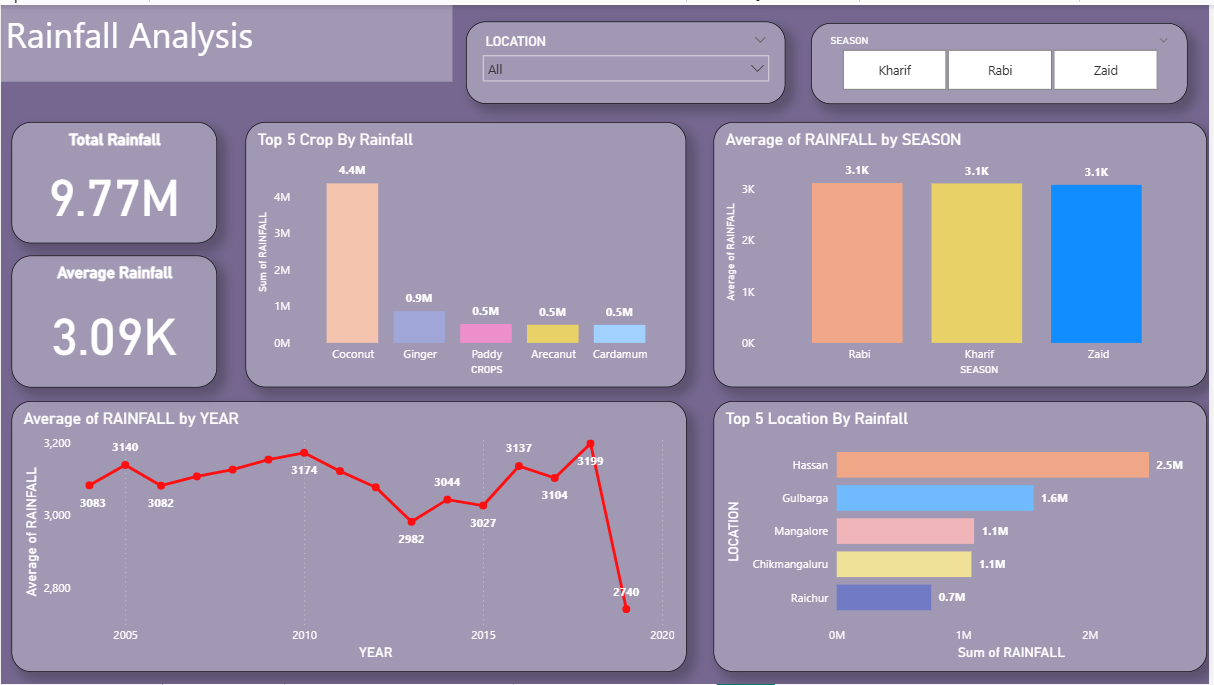

This screenshot's page, from the dashboard's own definition file:
{"tool":"powerbi","page":{"name":"Rainfall","canvas":[1280,720],"ordinal":0},"visuals":[{"type":"lineChart","fields":{"Y":["Avg(PBI_DATASET.RAINFALL)"],"Category":["PBI_DATASET.YEAR"]},"box":[11.3,419.5,716.2,287.2],"z":0},{"type":"textbox","box":[0,0,478.8,81.1],"z":1},{"type":"columnChart","fields":{"Y":["Avg(PBI_DATASET.RAINFALL)"],"Category":["PBI_DATASET.SEASON"]},"box":[755.9,124.7,523.5,281.6],"z":2},{"type":"barChart","title":"Top 5 Location By Rainfall","fields":{"Category":["PBI_DATASET.LOCATION"],"Y":["Sum(PBI_DATASET.RAINFALL)"]},"box":[755.9,419.5,523.5,287.2],"z":3},{"type":"columnChart","title":"Top 5 Crop By Rainfall","fields":{"Category":["PBI_DATASET.CROPS"],"Y":["Sum(PBI_DATASET.RAINFALL)"]},"box":[259.3,124.1,467.6,281.5],"z":4},{"type":"slicer","fields":{"Values":["PBI_DATASET.SEASON"]},"box":[858.9,19.1,399.2,85.9],"z":5},{"type":"slicer","fields":{"Values":["PBI_DATASET.LOCATION"]},"box":[493.1,17.5,338.8,87.5],"z":6},{"type":"card","title":"Total Rainfall","fields":{"Values":["Sum(PBI_DATASET.RAINFALL)"]},"box":[11.1,124.1,217.9,128.8],"z":7},{"type":"card","title":"Average Rainfall","fields":{"Values":["Avg(PBI_DATASET.RAINFALL)"]},"box":[11.1,265.6,217.9,140],"z":8}]}

Visuals, with their boxes in screenshot pixels (x1, y1, x2, y2), scaled from the page's 1280x720 canvas onto the 1214x685 screenshot:
lineChart - Avg(PBI_DATASET.RAINFALL) x PBI_DATASET.YEAR: box(11, 399, 690, 672)
textbox: box(0, 0, 454, 77)
columnChart - Avg(PBI_DATASET.RAINFALL) x PBI_DATASET.SEASON: box(717, 119, 1213, 387)
"Top 5 Location By Rainfall" barChart: box(717, 399, 1213, 672)
"Top 5 Crop By Rainfall" columnChart: box(246, 118, 689, 386)
slicer - PBI_DATASET.SEASON: box(815, 18, 1193, 100)
slicer - PBI_DATASET.LOCATION: box(468, 17, 789, 100)
"Total Rainfall" card: box(11, 118, 217, 241)
"Average Rainfall" card: box(11, 253, 217, 386)
